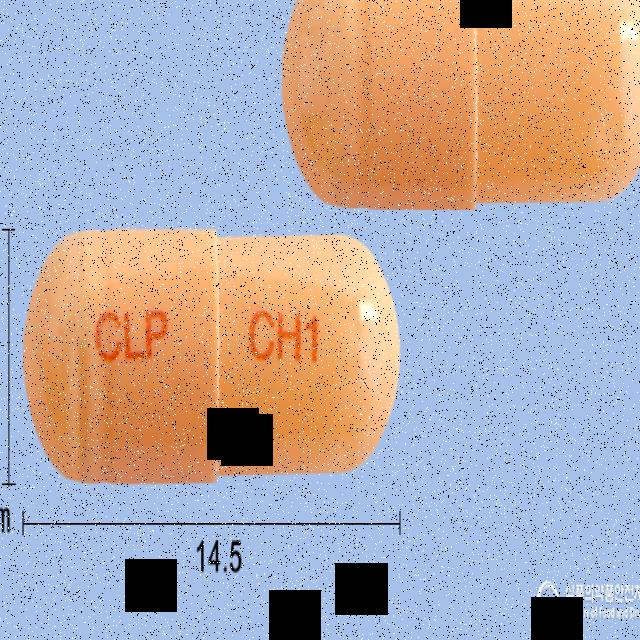Ceprion Cap: (19, 222, 406, 490)
